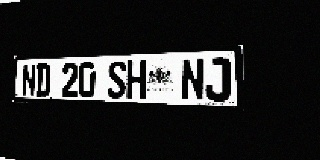0: (78, 62, 95, 98)
2: (62, 62, 78, 97)
D: (35, 63, 51, 97)
H: (126, 60, 146, 99)
J: (205, 57, 230, 101)
N: (181, 58, 204, 101), (21, 64, 36, 96)
S: (107, 61, 126, 99)
